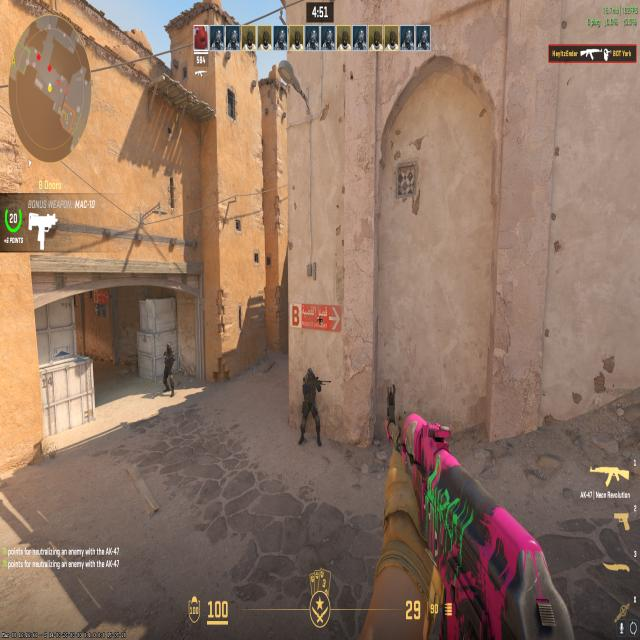ct: (297, 362, 323, 449), (159, 339, 175, 399)
